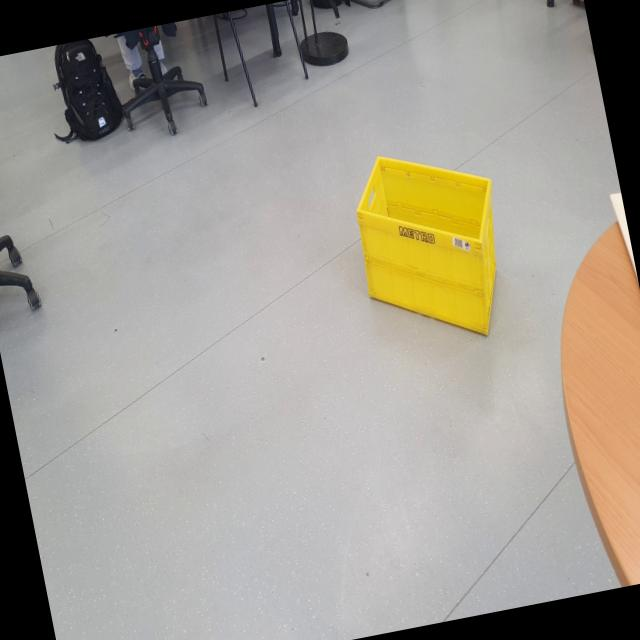box: (332, 125, 525, 368)
